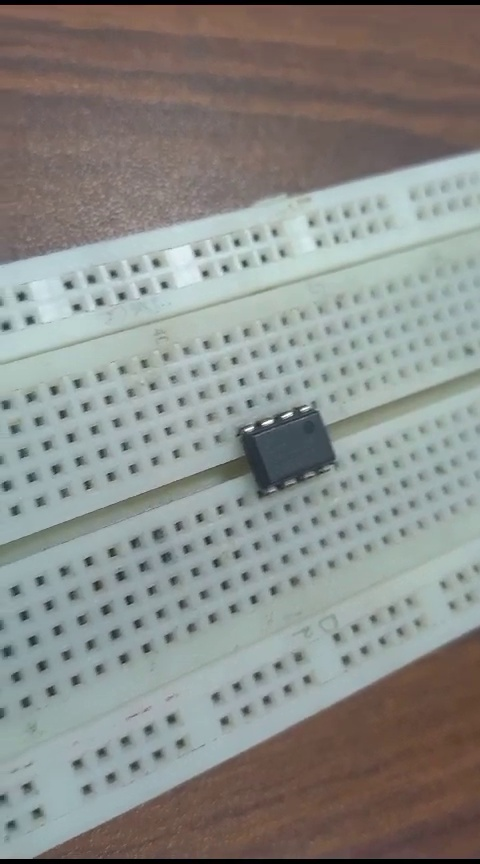IC: (234, 389, 343, 501)
